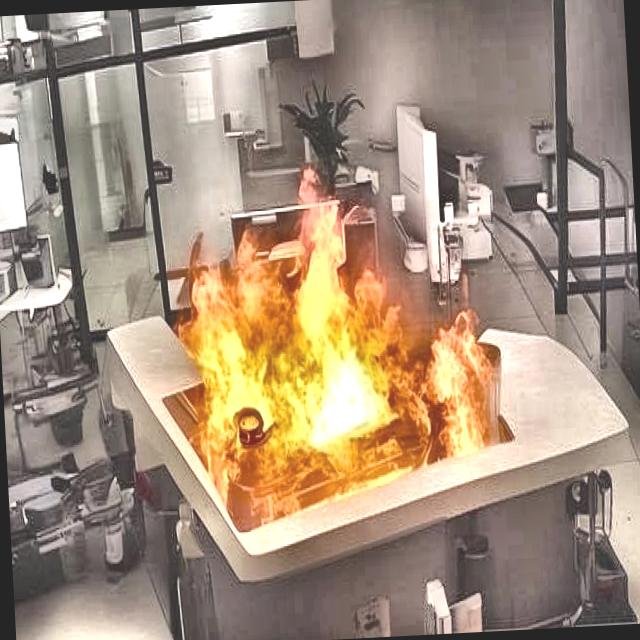fire: (161, 170, 504, 548)
